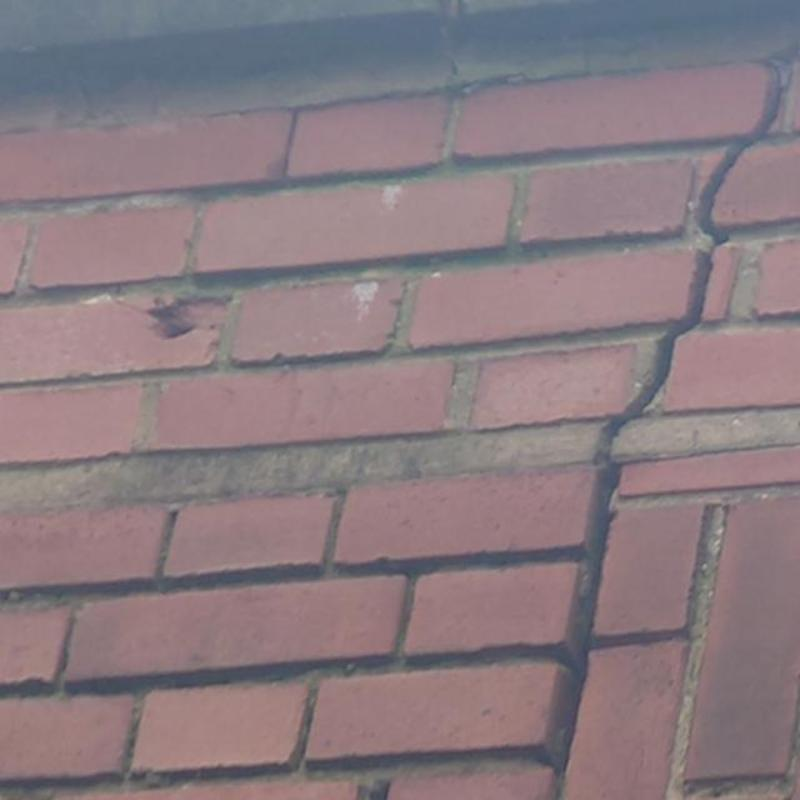crack: (547, 52, 797, 799)
